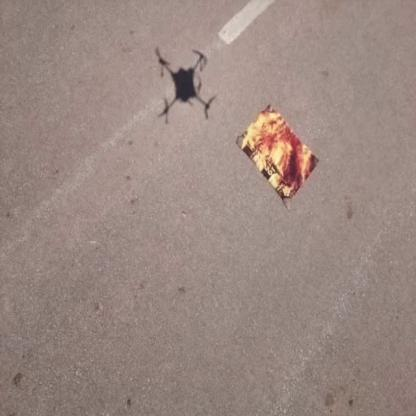fire-poster: (234, 102, 320, 208)
